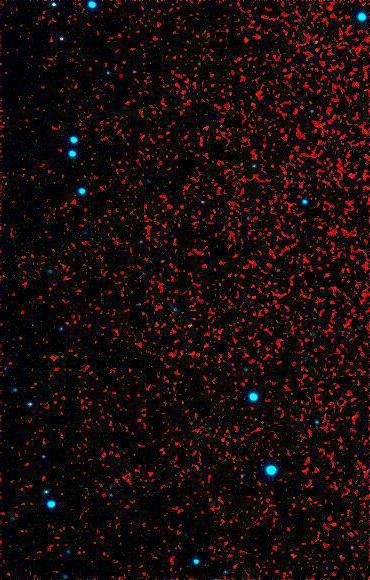star: (176, 309, 206, 339)
